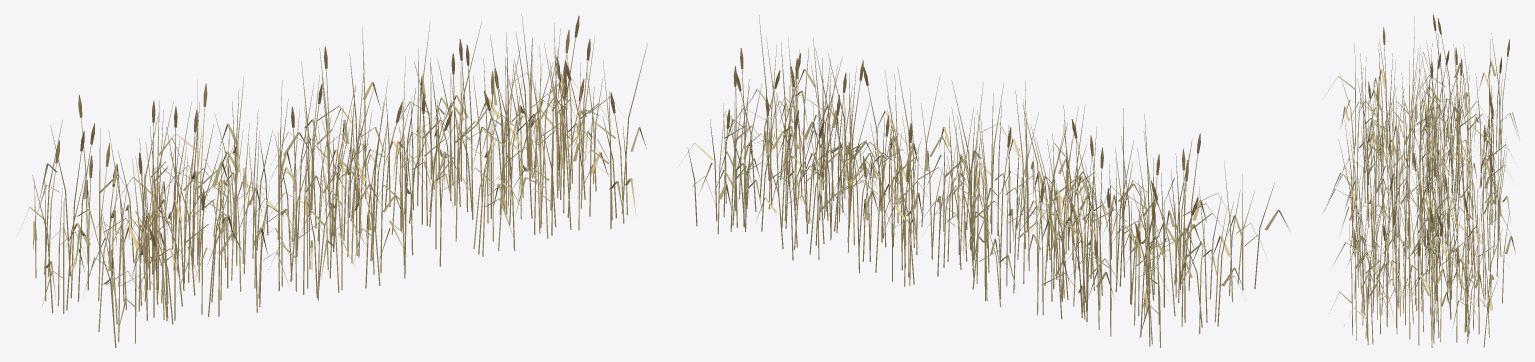
The model's file is CW_GoldenReedBand4m_LOD1.fbx.
The picture shows the model from 3 angles, left to right: view 1: azimuth 30°, elevation 25°; view 2: azimuth 150°, elevation 25°; view 3: azimuth 270°, elevation 25°; orthographic projection. The views are drawn at different scales.
Visible parts, largest first — view 1: CW_GoldenReedBand4m_Reduced; view 2: CW_GoldenReedBand4m_Reduced; view 3: CW_GoldenReedBand4m_Reduced.
Boxes of the visible parts, x1,y1,x2,y2 form: CW_GoldenReedBand4m_Reduced: (24,14,647,347); CW_GoldenReedBand4m_Reduced: (685,15,1290,347); CW_GoldenReedBand4m_Reduced: (1323,14,1519,347).
Size of the model in its own units: 3.91 by 1.2 by 1.47.
